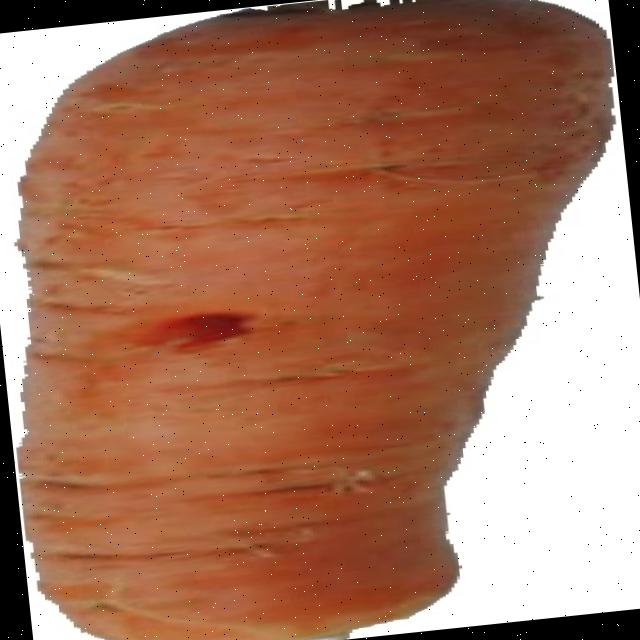carrot: (18, 0, 609, 640)
